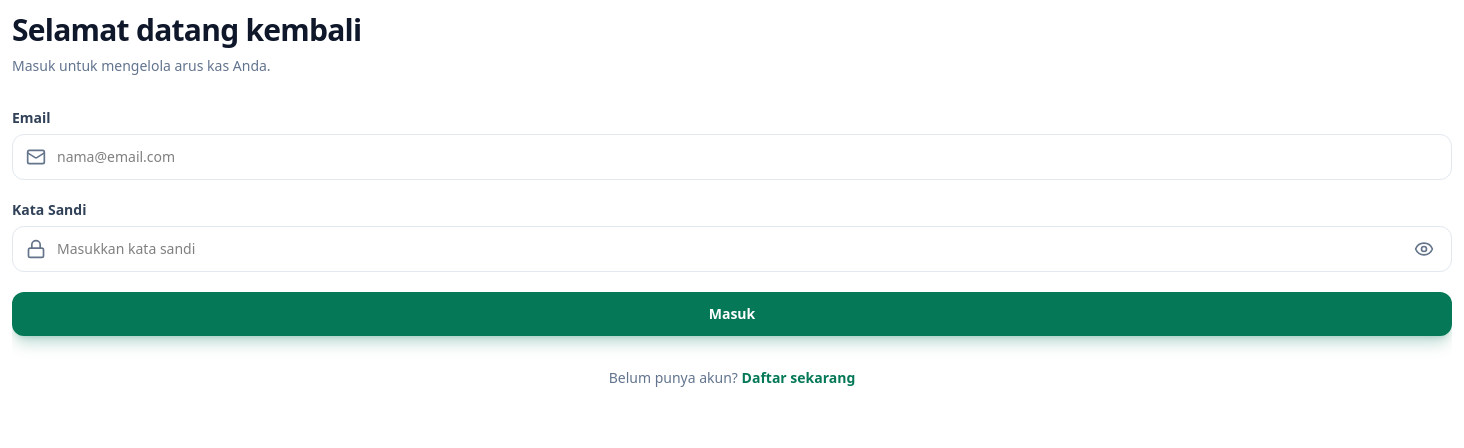
Test: validasi › menghapus pesan error setelah isian diperbaiki
The image size is (1464, 448).
Submit the form, box [12, 108, 1452, 336]
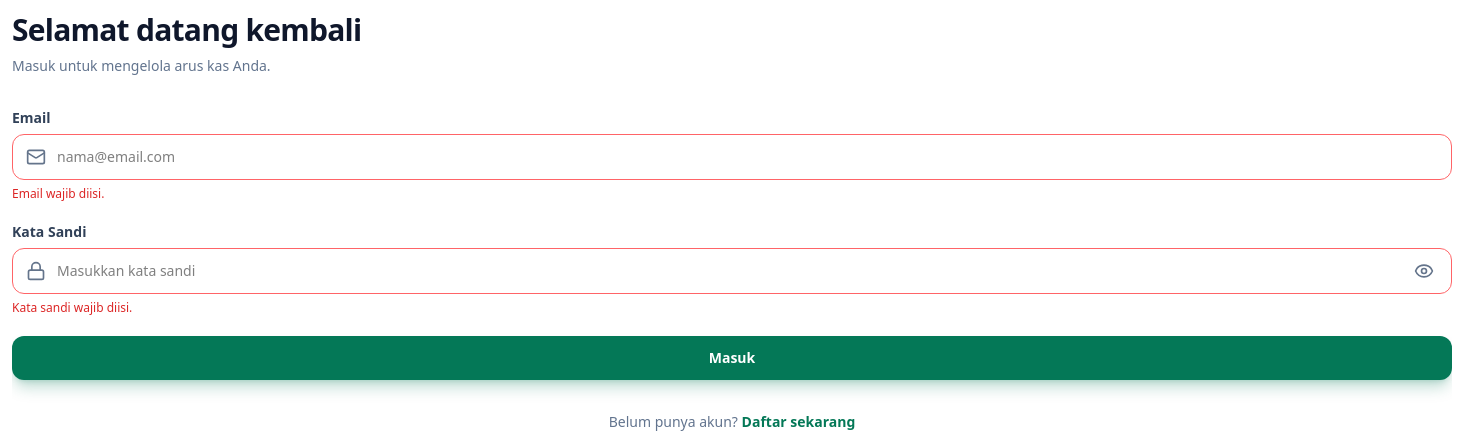
Check: the text "Email wajib diisi." is shown, box [12, 185, 104, 202]
In the field with id "login-email-input": x=732, y=157 [12, 134, 1452, 180], type "a@b.com"
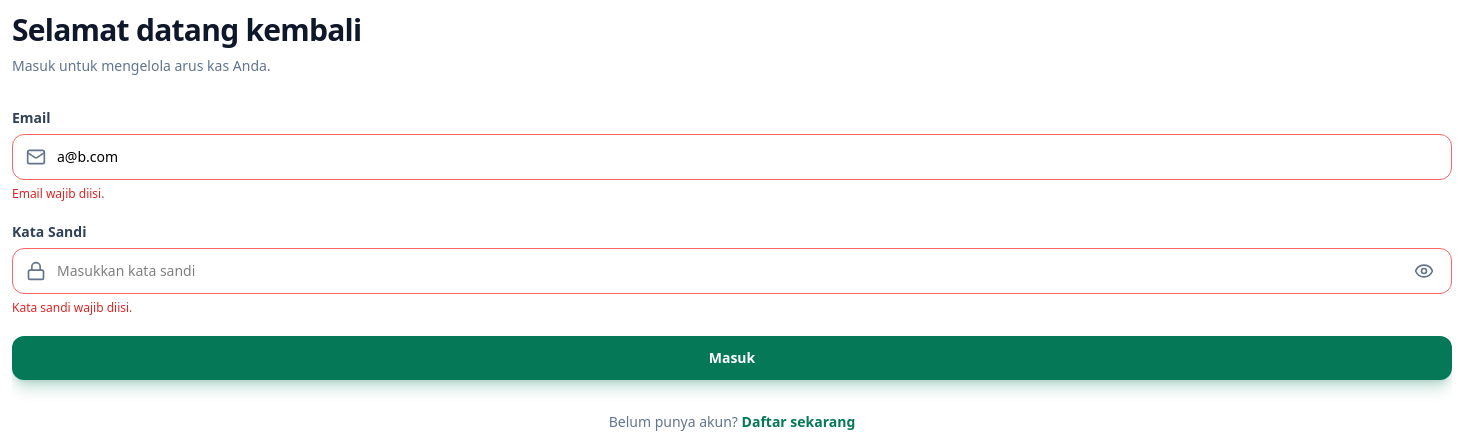
In the password field with id "login-password-input": x=732, y=271 [12, 248, 1452, 294], type "rahasia"
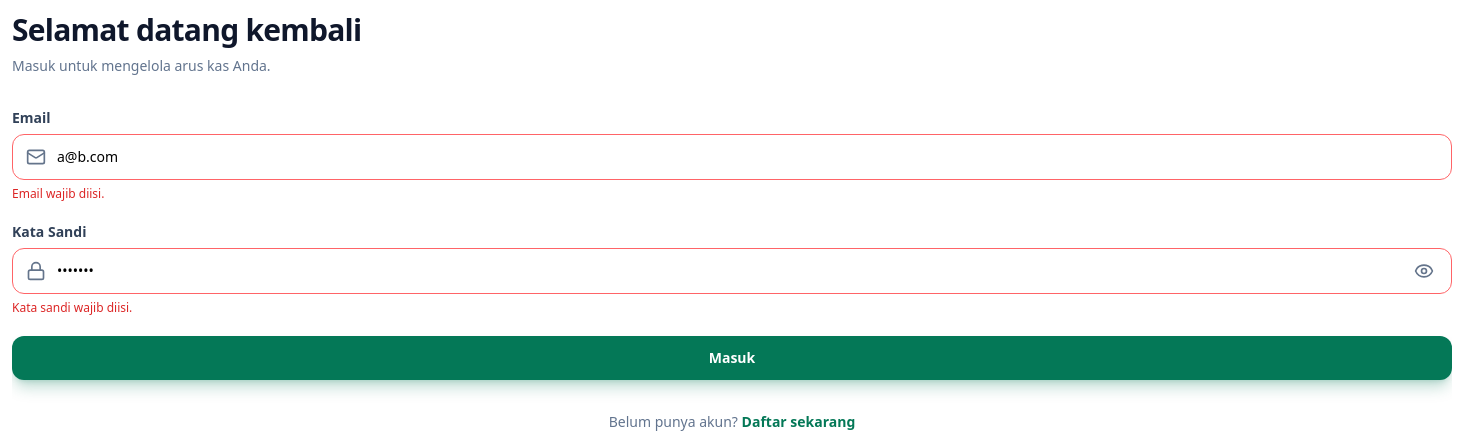
Submit the form, box [12, 108, 1452, 380]
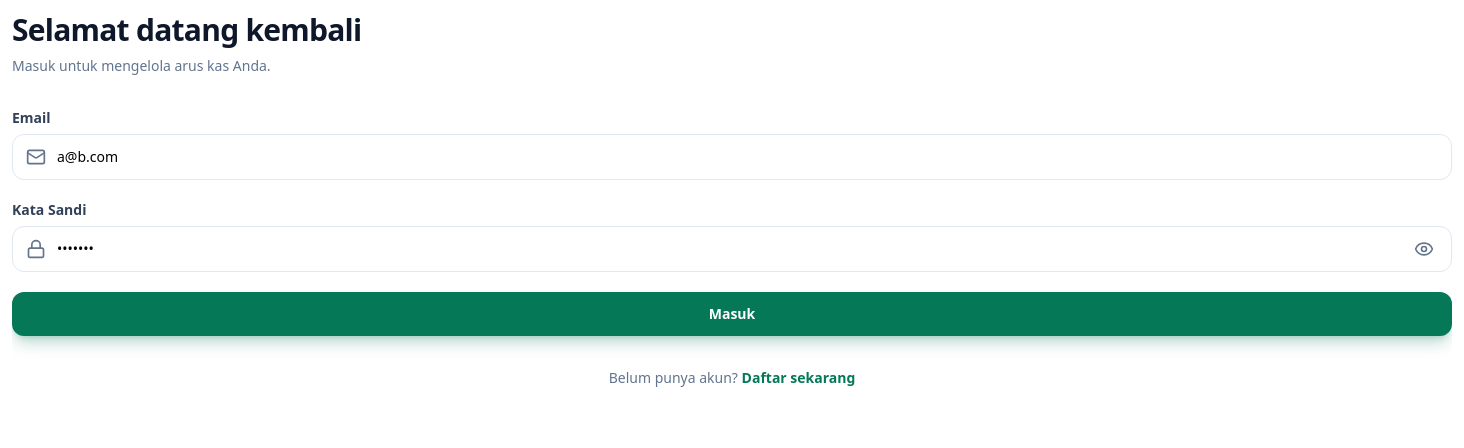
Check: the text "Email wajib diisi." is gone
Check: the text "Kata sandi wajib diisi." is gone
